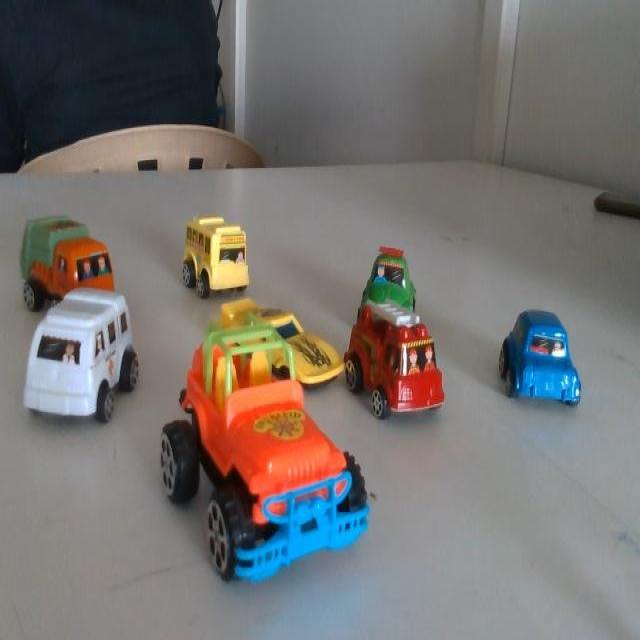car: (226, 396, 381, 588), (493, 296, 598, 432), (231, 293, 345, 403), (30, 303, 133, 413), (365, 302, 450, 429), (32, 208, 126, 320), (363, 246, 428, 334), (197, 210, 259, 298)
